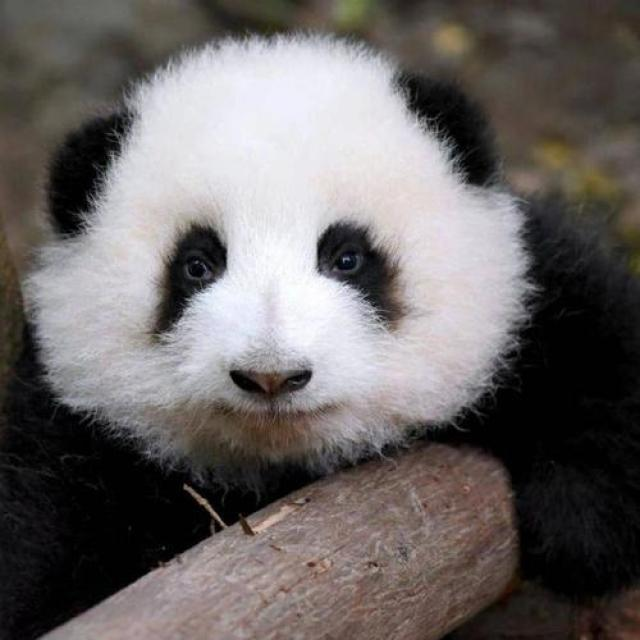panda: (32, 32, 620, 570)
